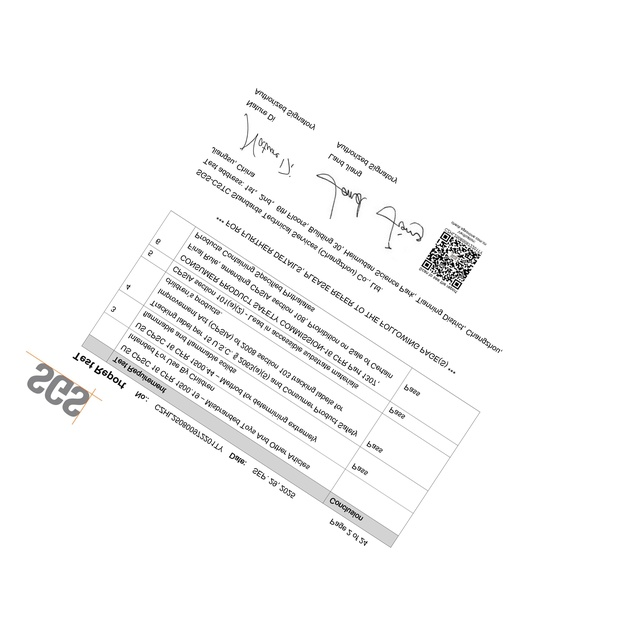sgs: (25, 363, 90, 417)
